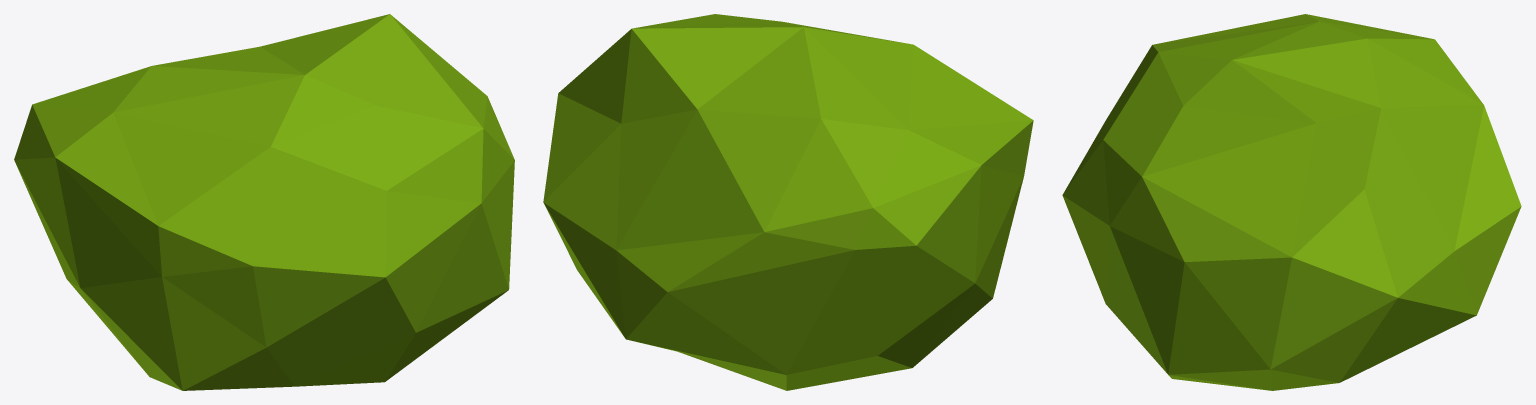
The model's file is M_Grass2.FBX.
3 renders of one model, left to right at view 1: azimuth 30°, elevation 25°; view 2: azimuth 150°, elevation 25°; view 3: azimuth 270°, elevation 25°, orthographic.
Visible parts, largest first — view 1: GeoSphere017; view 2: GeoSphere017; view 3: GeoSphere017.
Boxes of the visible parts, left/top/right/bottom form: GeoSphere017: left=14, top=14, right=514, bottom=390; GeoSphere017: left=543, top=14, right=1033, bottom=390; GeoSphere017: left=1062, top=14, right=1521, bottom=390.
Size of the model in its own units: 142 by 95.06 by 134.
